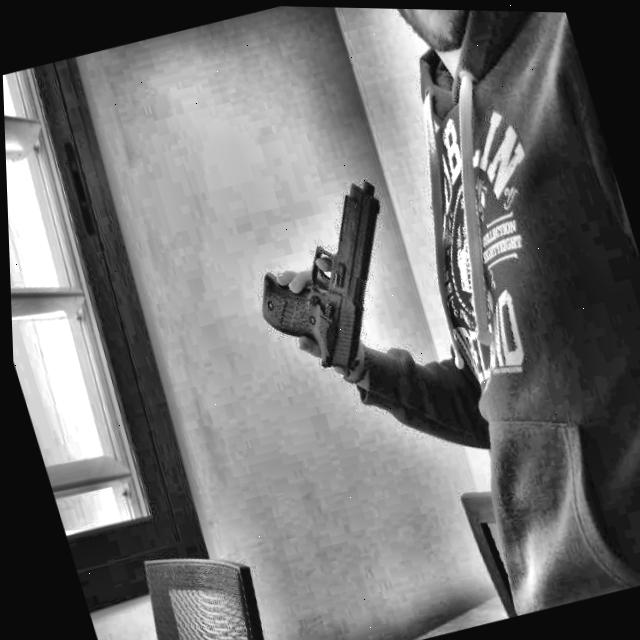pistol: (217, 164, 440, 394)
